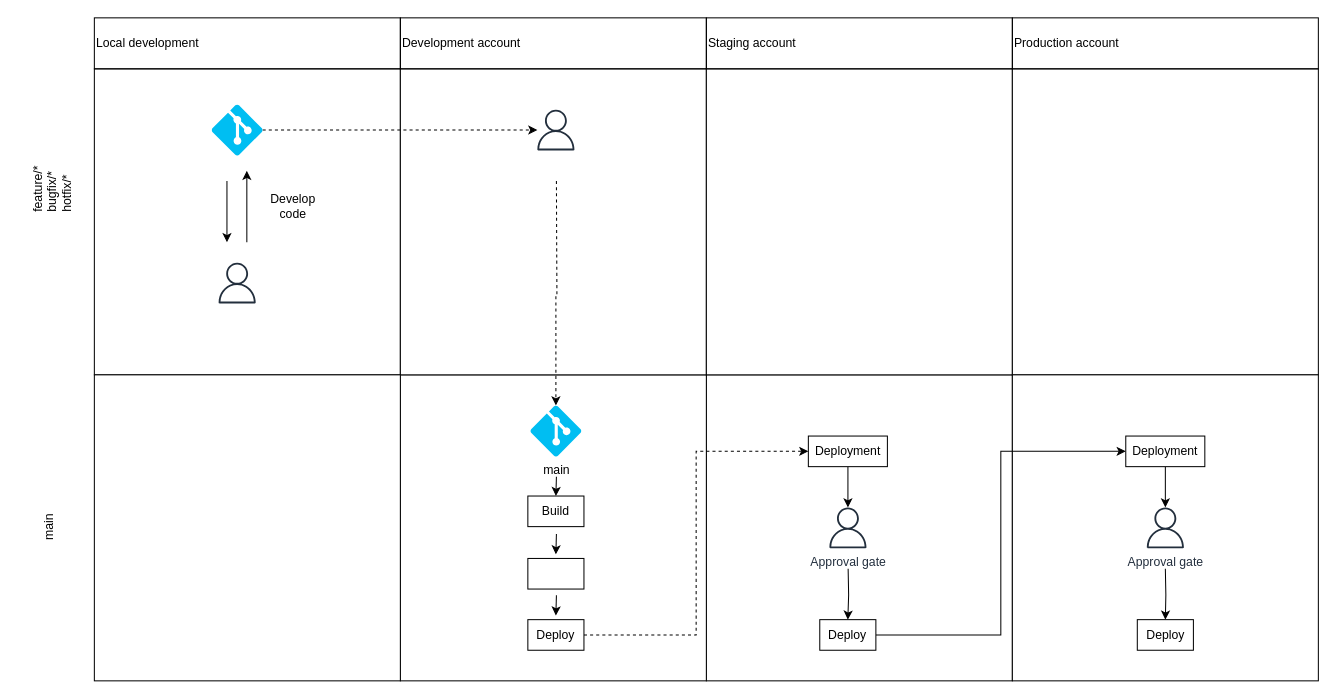
The diagram is 1336 pixels wide and 699 high, and some of its shapes have lost their labels. The centre of each missing label's shape, as x and y in pixels:
Publish Artifact: point (555, 573)
Pull Request: point (555, 129)
